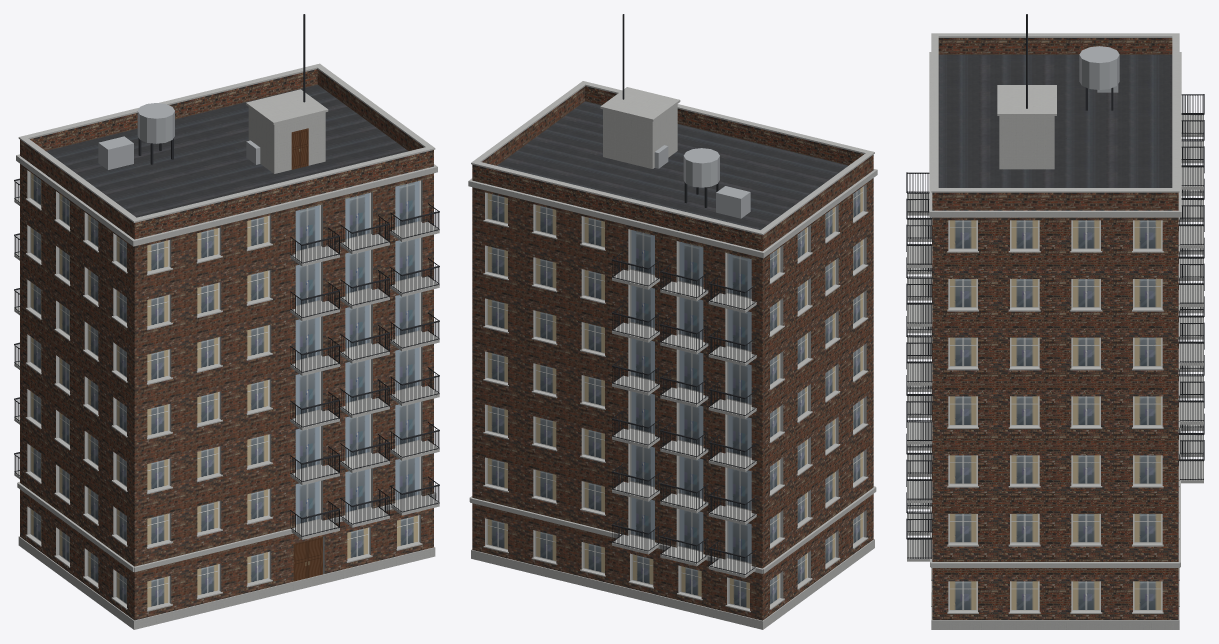
File: edificio_01_bloque_ladrillo.glb
The picture shows the model from 3 angles, left to right: view 1: azimuth 30°, elevation 25°; view 2: azimuth 150°, elevation 25°; view 3: azimuth 270°, elevation 25°; orthographic projection. The views are drawn at different scales.
Visible parts, largest first — view 1: EB01_bloque_ladrillo; view 2: EB01_bloque_ladrillo; view 3: EB01_bloque_ladrillo.
Boxes of the visible parts, left/top/right/bottom form: EB01_bloque_ladrillo: left=14, top=14, right=439, bottom=629; EB01_bloque_ladrillo: left=468, top=14, right=877, bottom=629; EB01_bloque_ladrillo: left=906, top=14, right=1204, bottom=629.
Size of the model in its own units: 17.79 by 29.6 by 14.02.
Materials: 7 (5 with a texture image).
